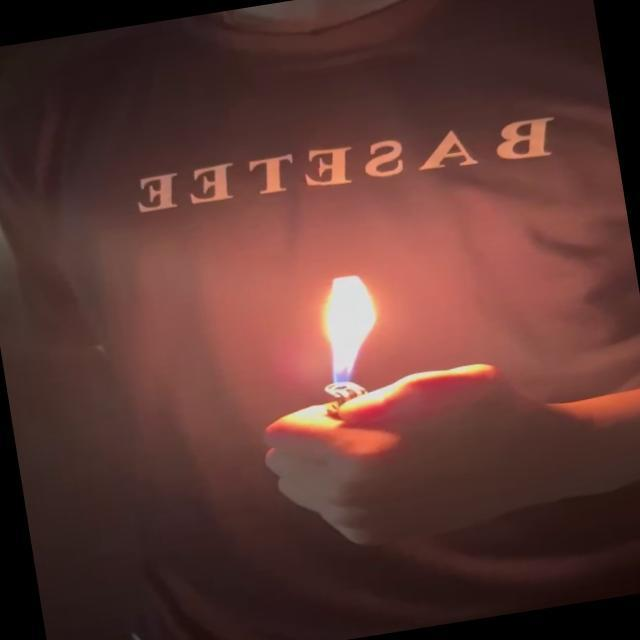Fire: (296, 269, 393, 394)
